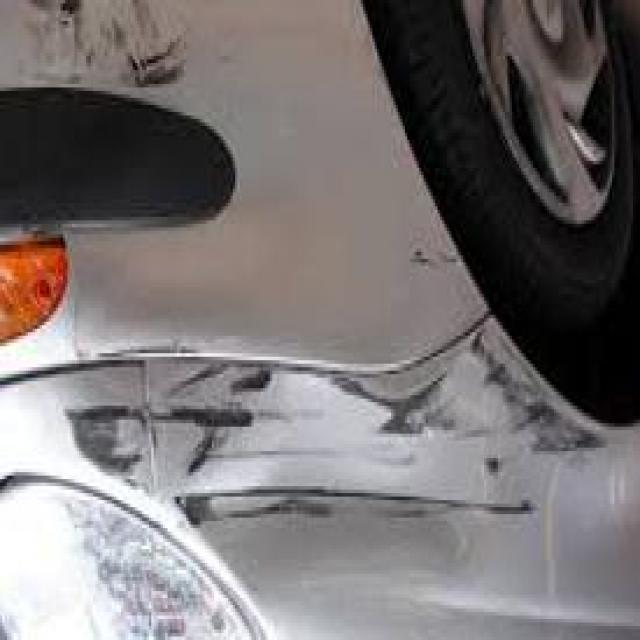scratch: (52, 338, 614, 520), (15, 3, 206, 102)
